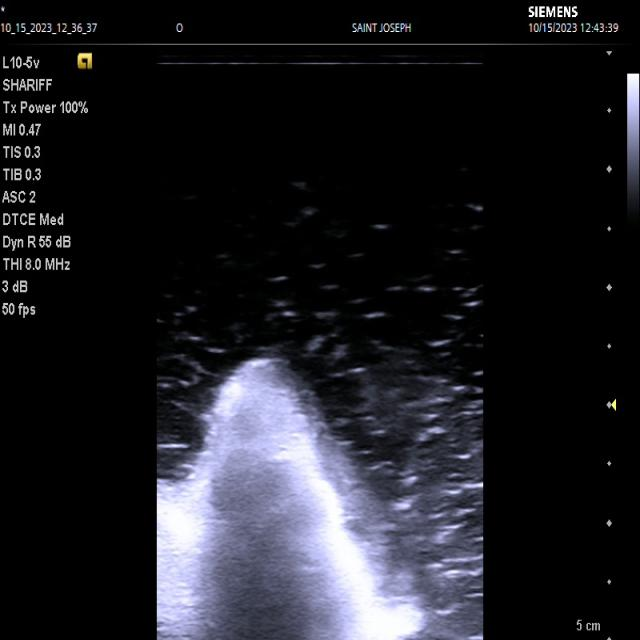tissue: (158, 359, 424, 640)
